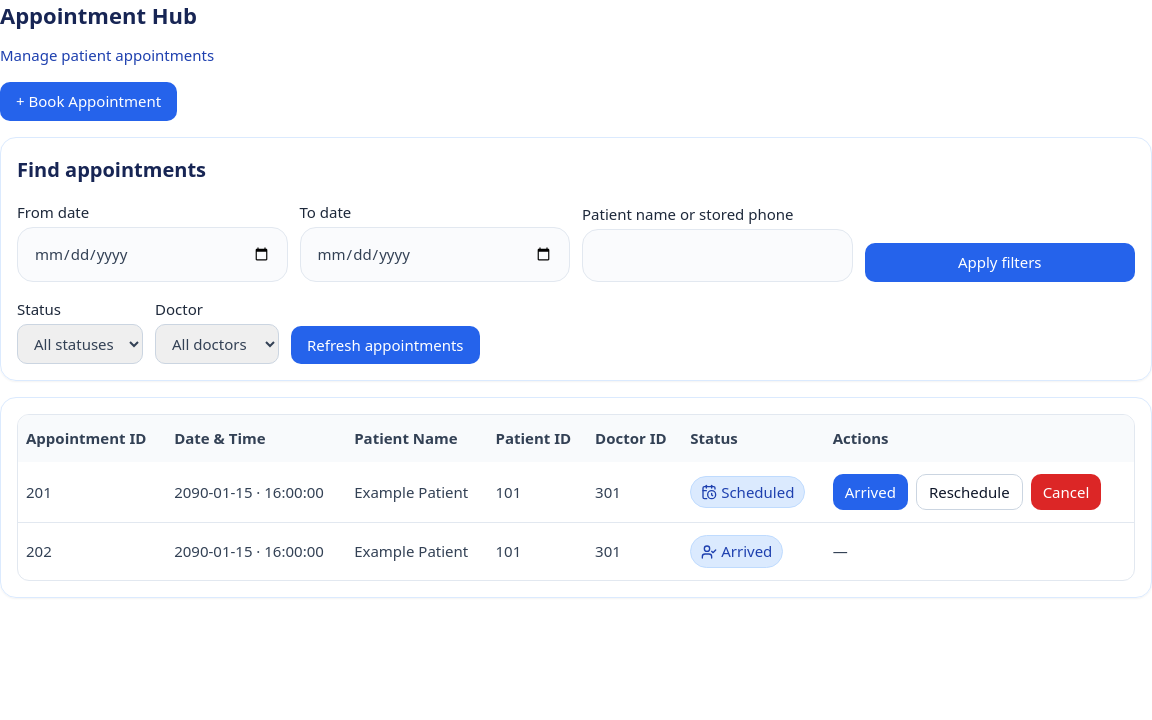
ADM-05 appointment hub › only offers Scheduled actions, confirms before mutations, and displays authoritative reschedule/cancel results
Expected: the field labelled "New appointment date" is not shown
Click the button with aria-label "Reschedule appointment 201".
click(969, 492)  # box [916,474,1023,510]
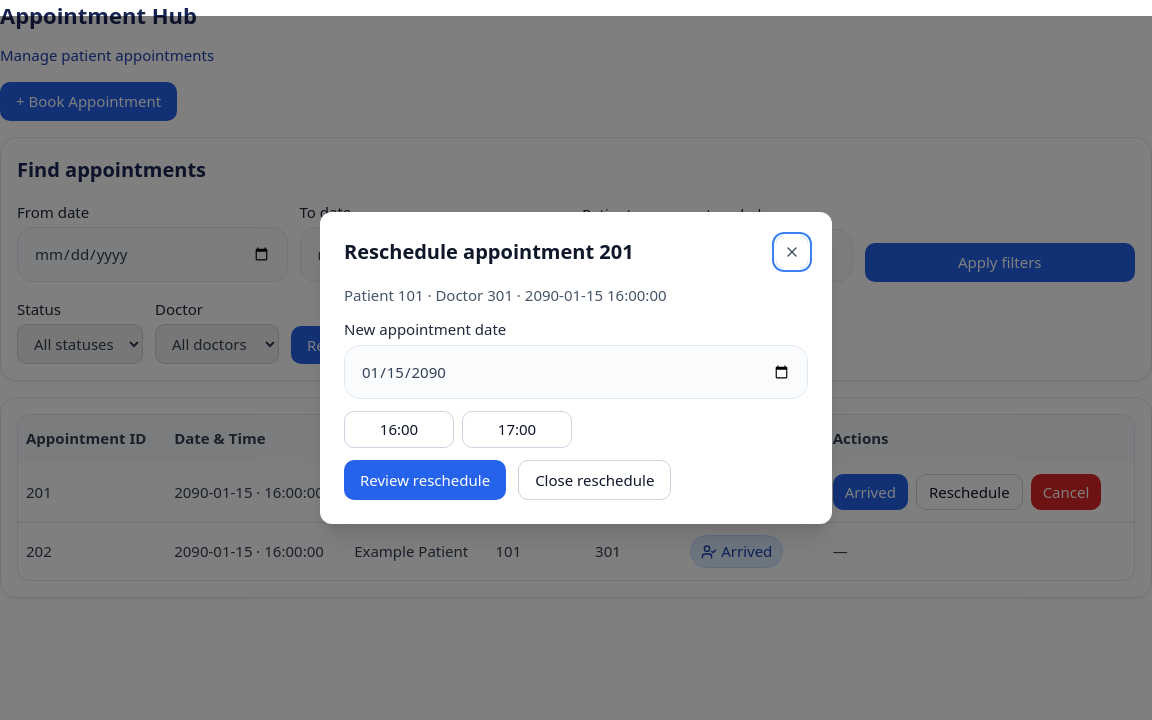
Now the number of date fields labelled "New appointment date" is 1, box [344,345,808,399]
Click the button "17:00".
click(517, 430)  # box [462,411,572,448]
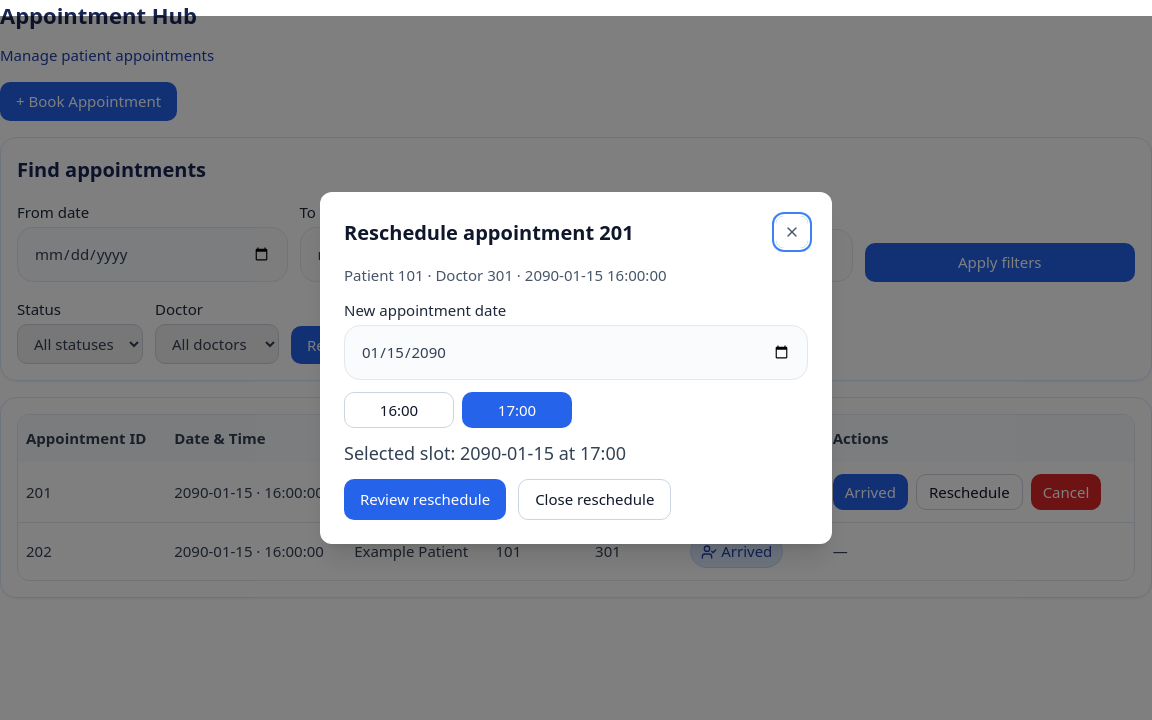
Click the button "Review reschedule".
click(425, 500)  # box [344,479,506,520]
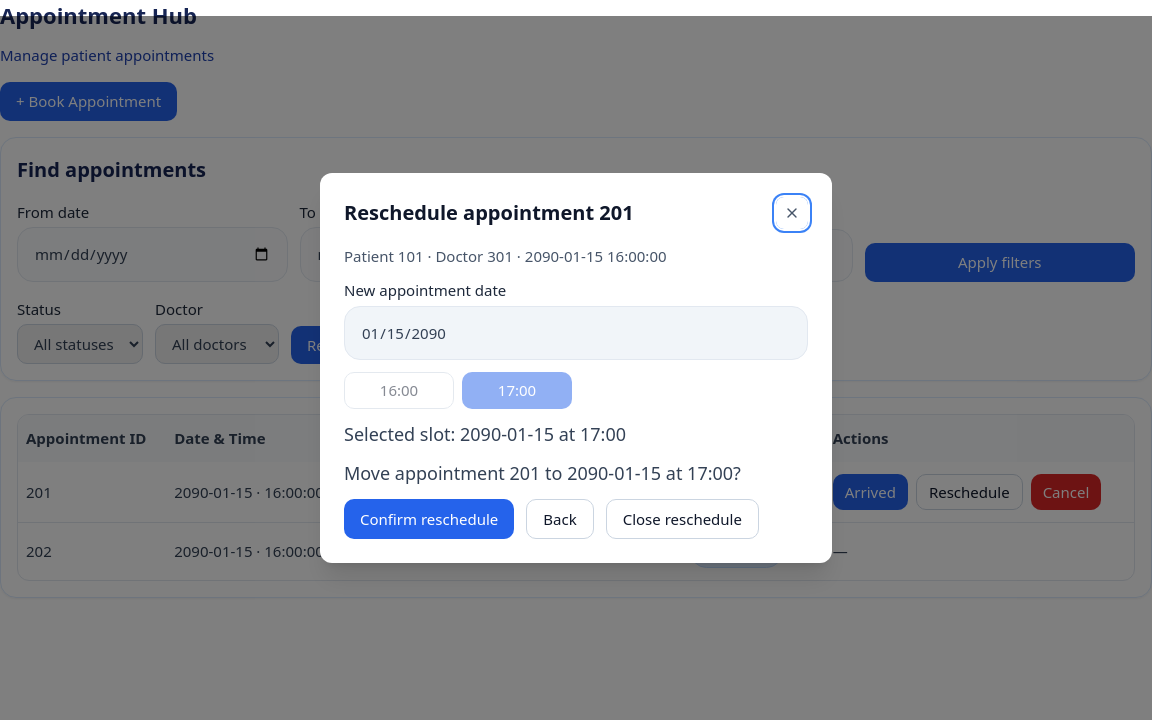
Click the button "Confirm reschedule".
click(429, 519)  # box [344,499,514,539]
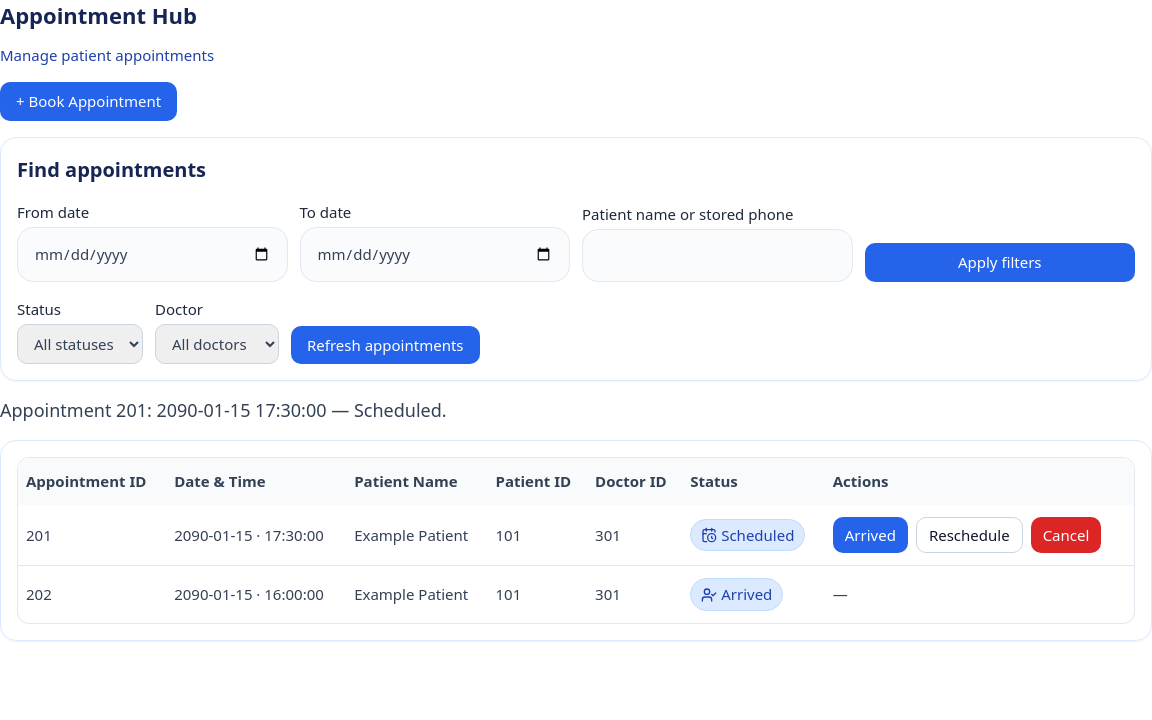
Now the text "Appointment 201: 2090-01-15 17:30:00 — Scheduled." is shown, box [0,398,447,422]
Now the dialog is gone
Now the text "2090-01-15 · 17:30:00" is shown, box [166,505,346,566]
Click the button "Cancel".
click(1066, 535)  # box [1031,517,1101,553]
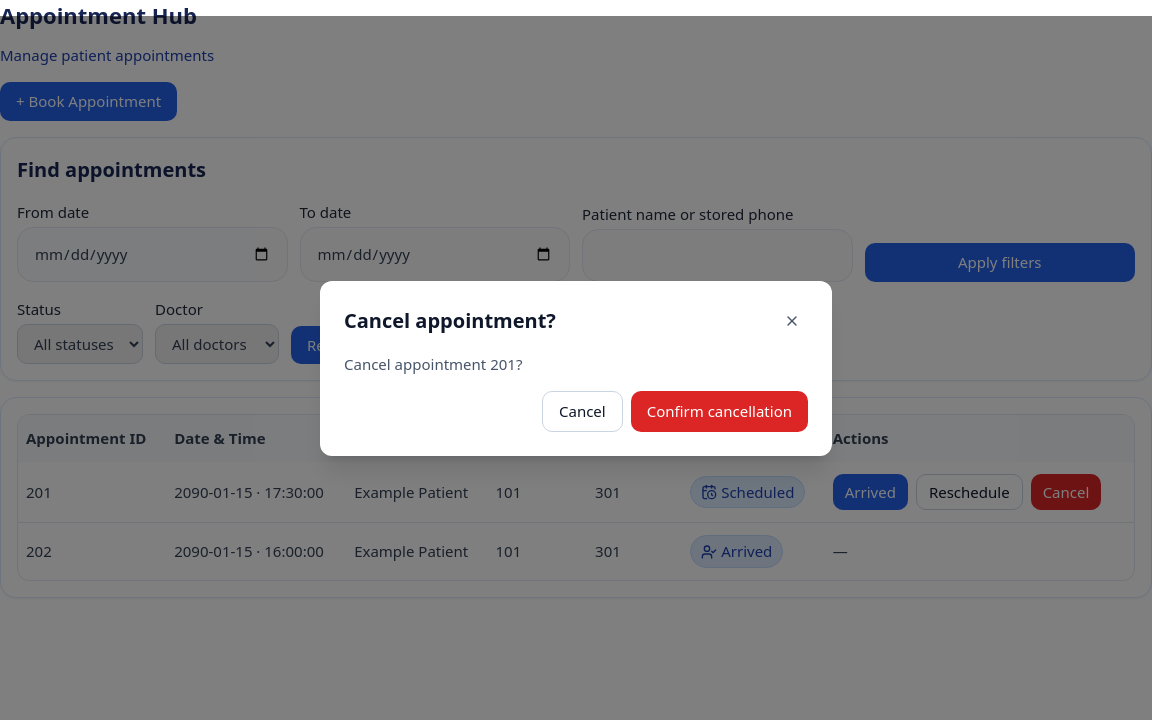
Click the button "Confirm cancellation".
click(719, 411)  # box [631,391,808,432]
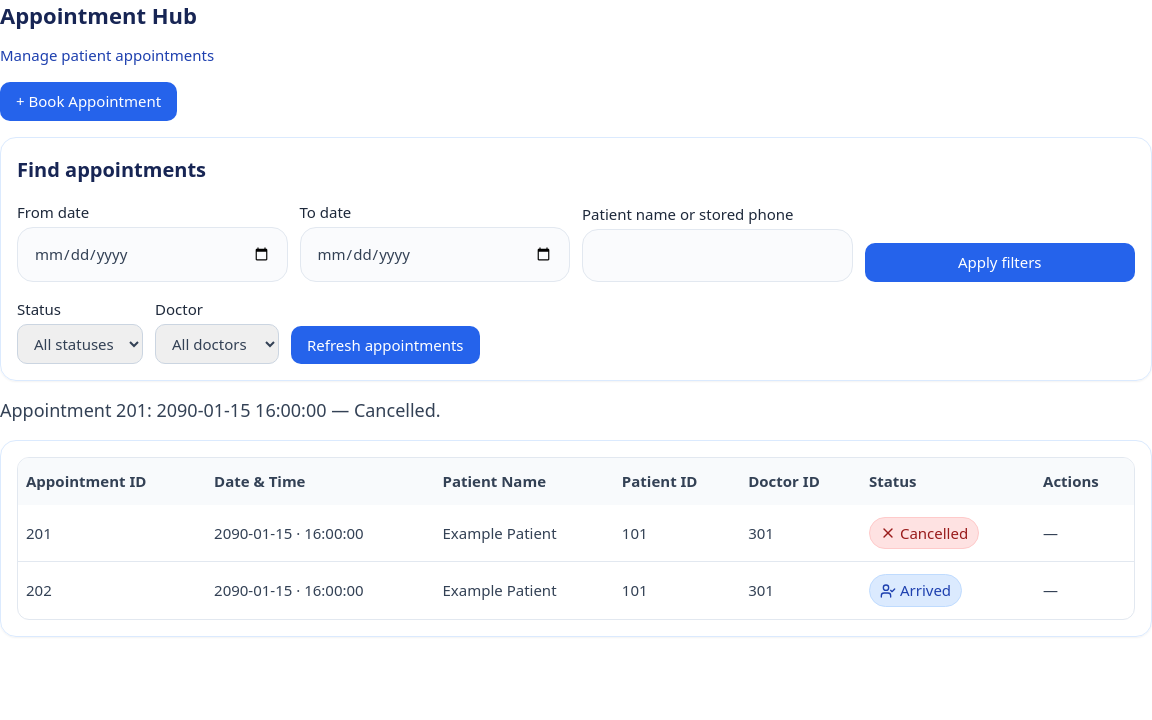
Now the text "Appointment 201: 2090-01-15 16:00:00 — Cancelled." is shown, box [0,398,441,422]
